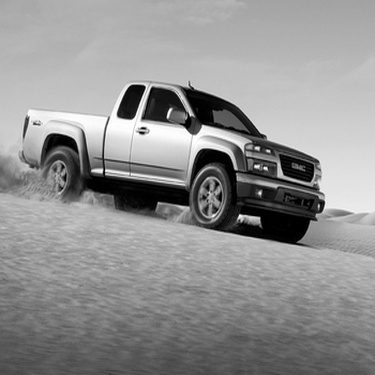car: (4, 74, 327, 247)
